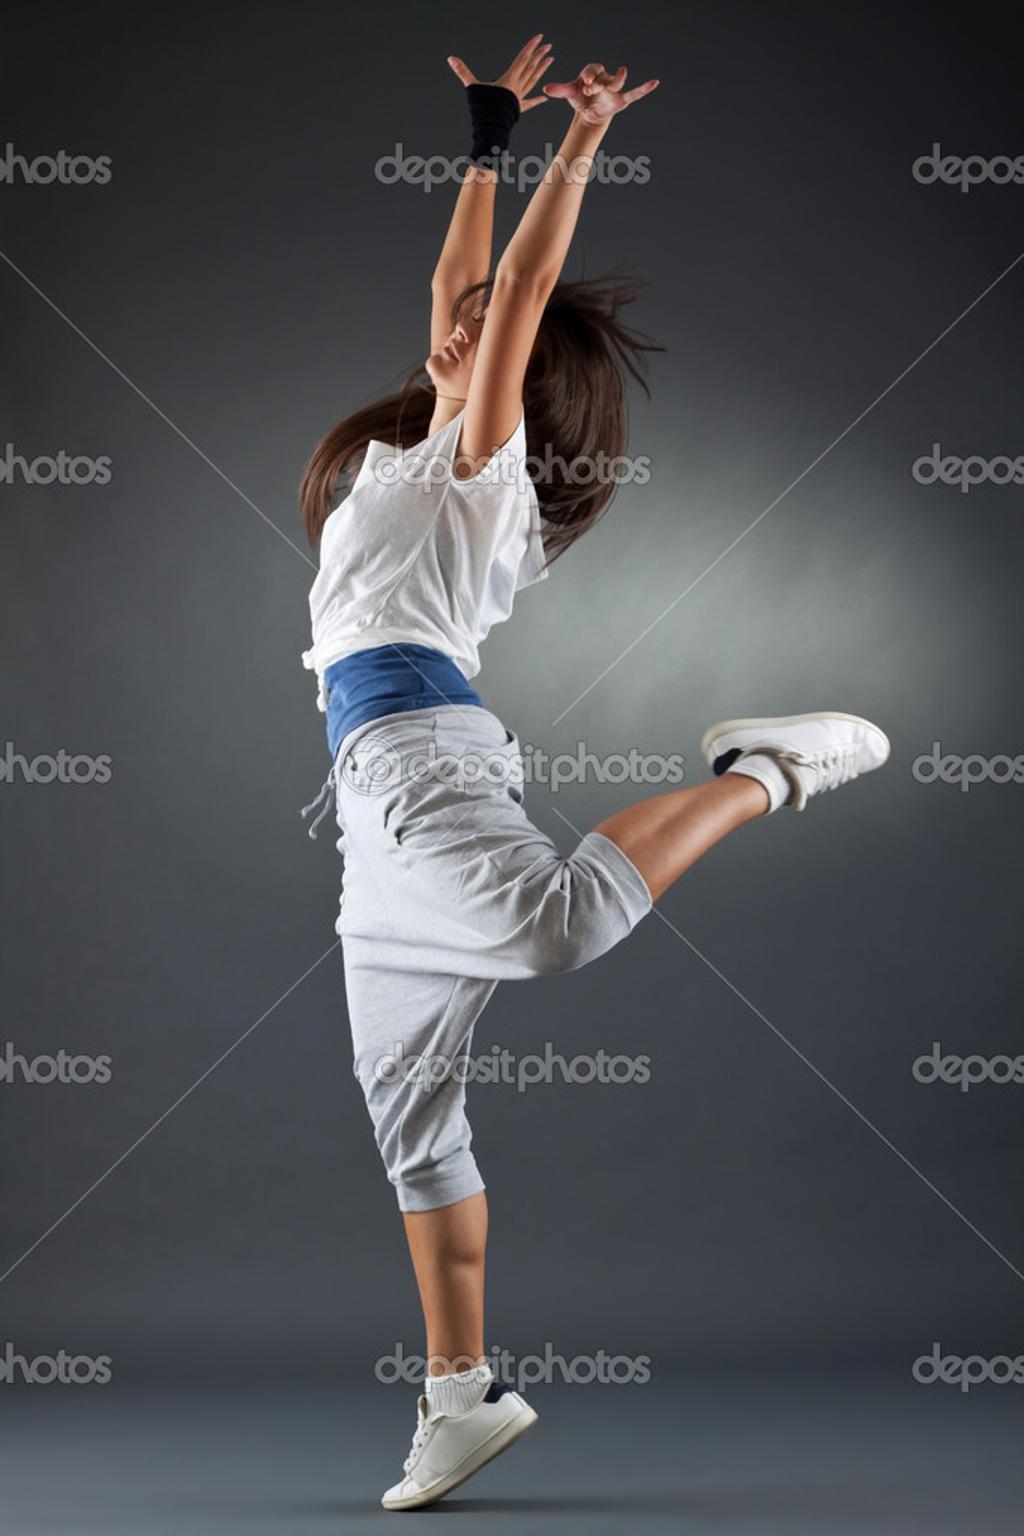face: (433, 280, 490, 397)
